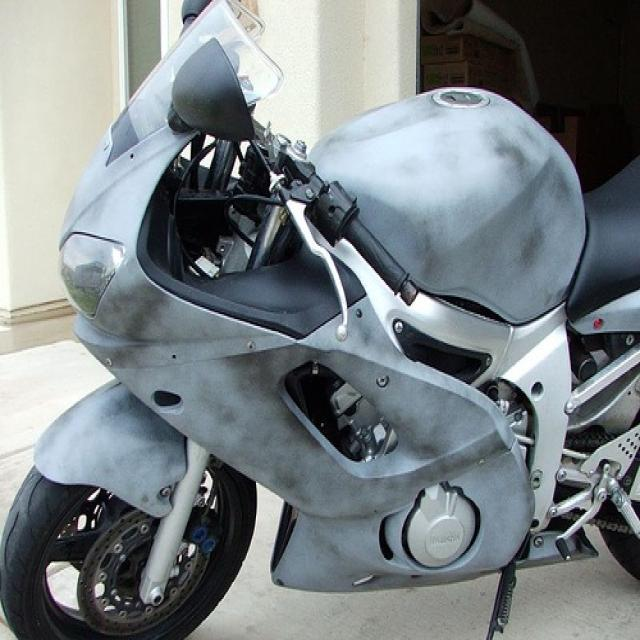motorbike: (0, 5, 639, 637)
